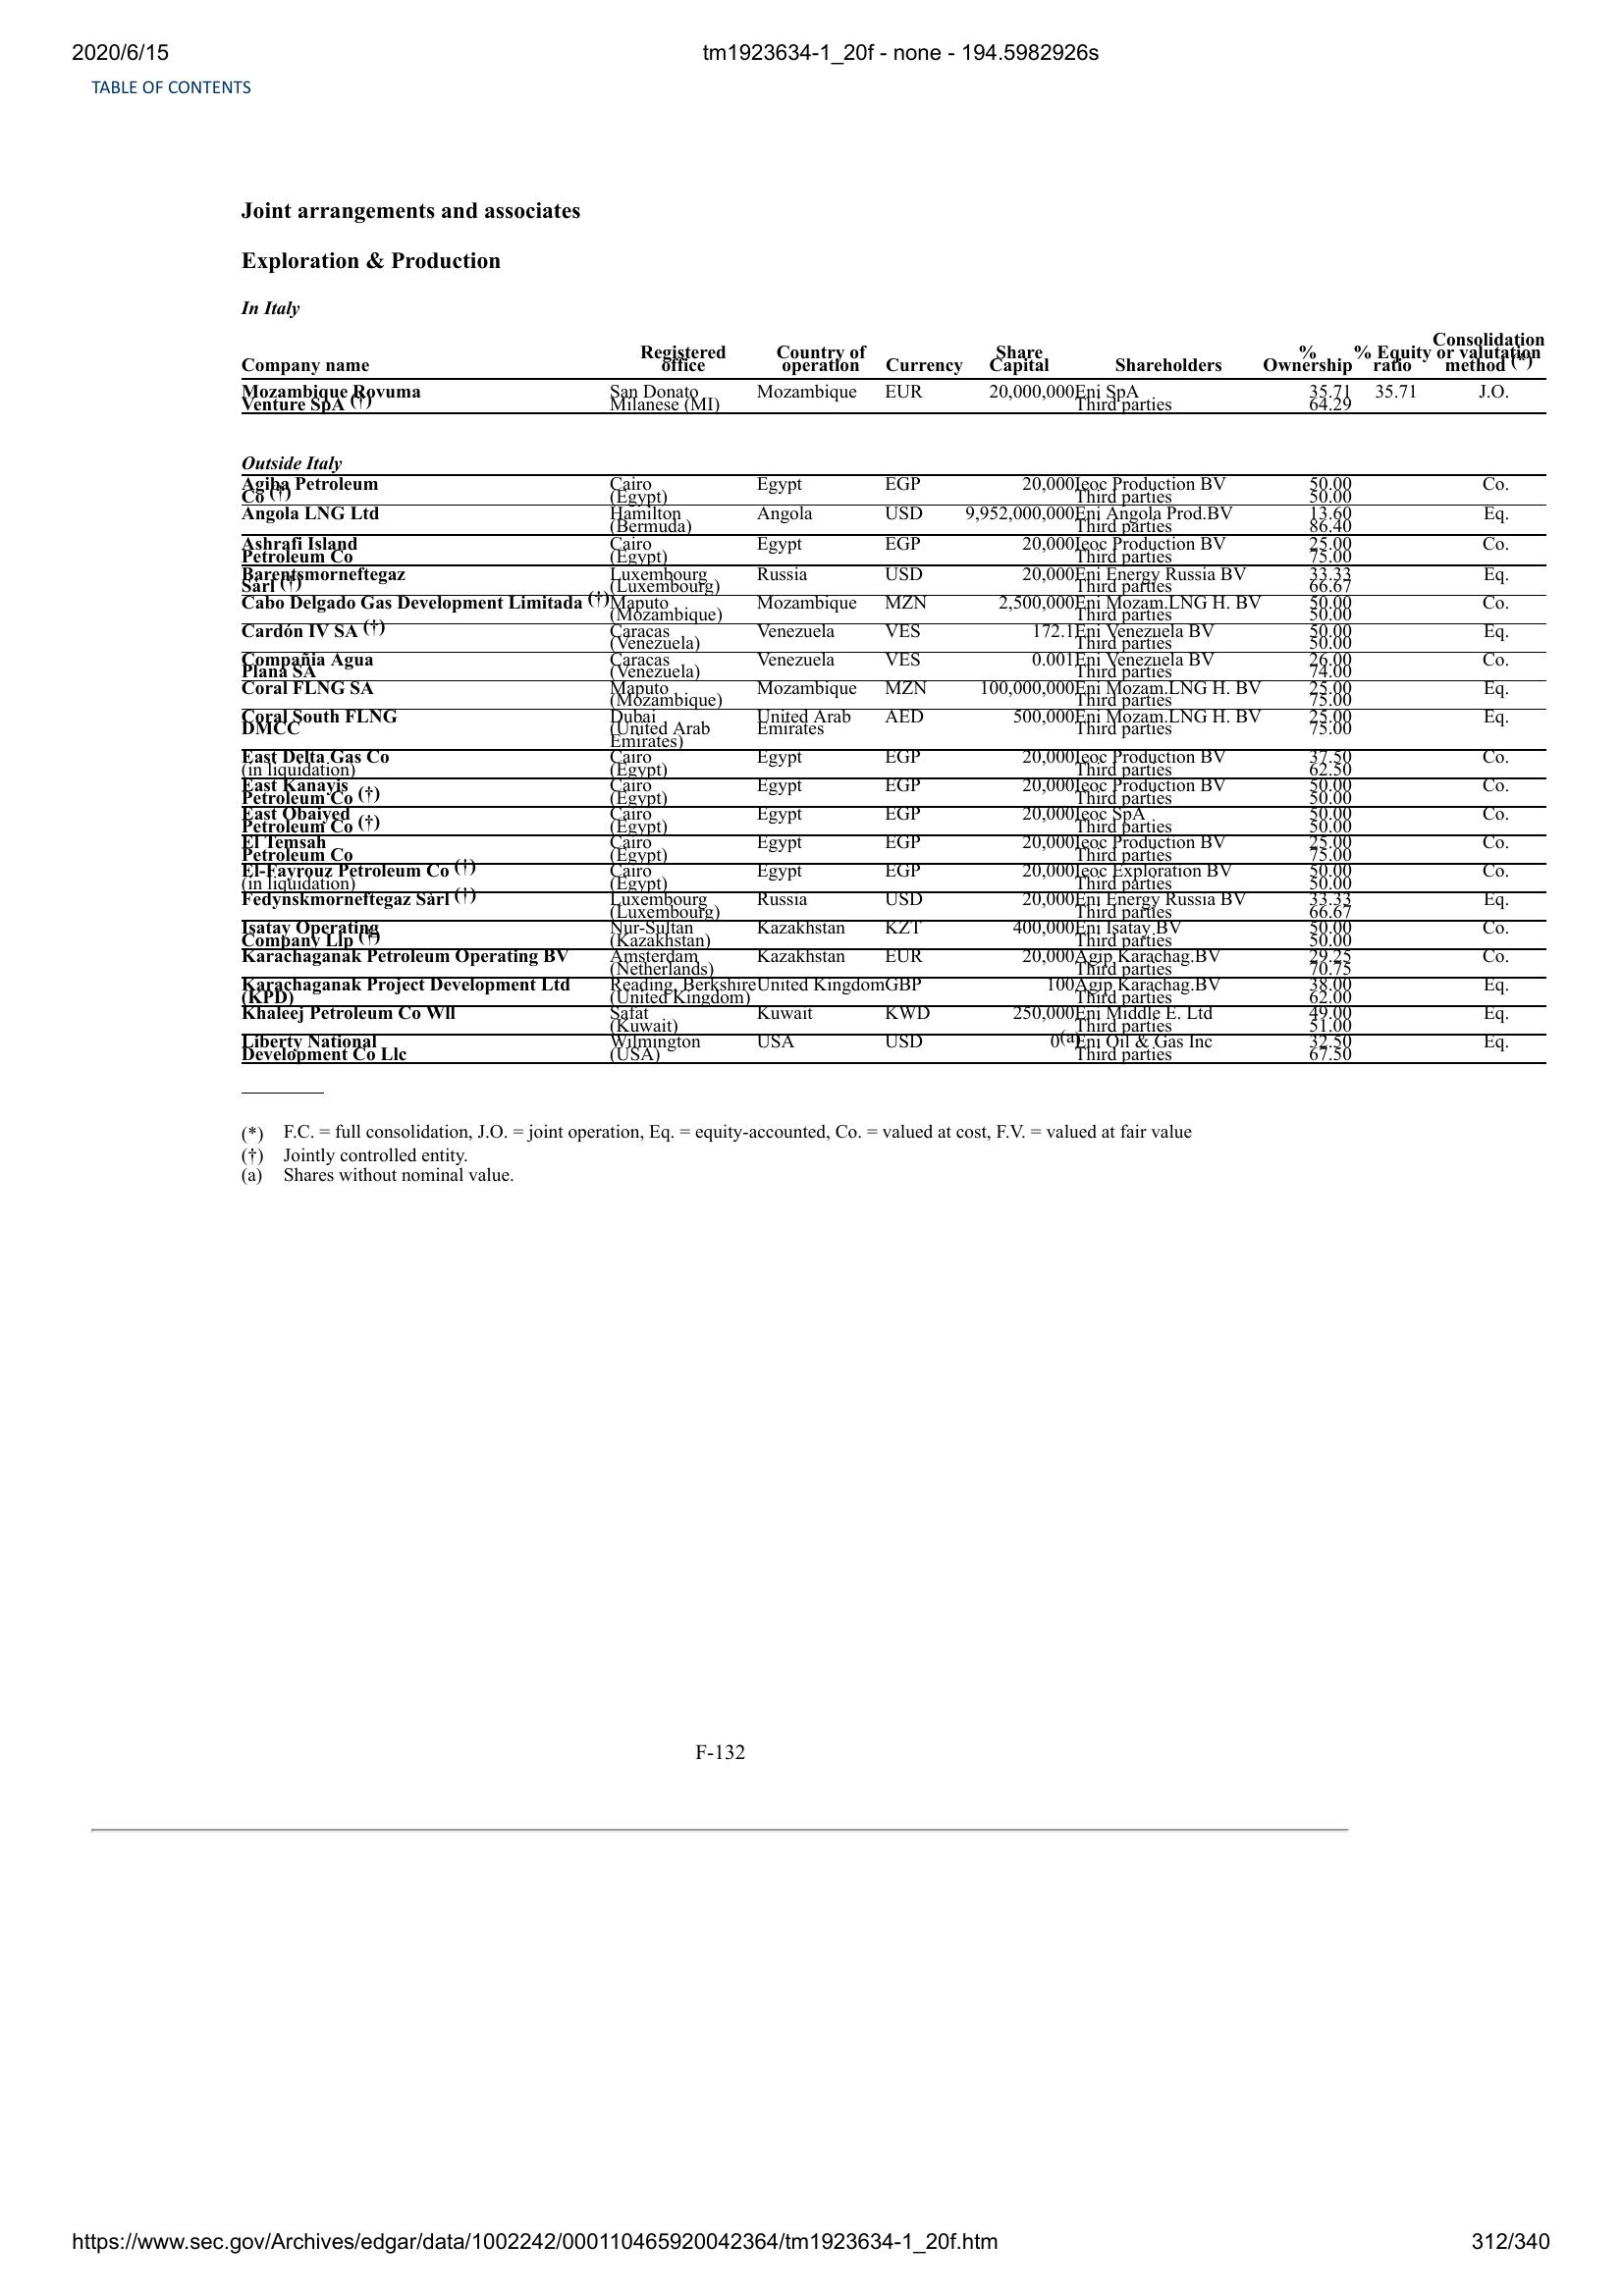table: (235, 326, 1560, 1078)
